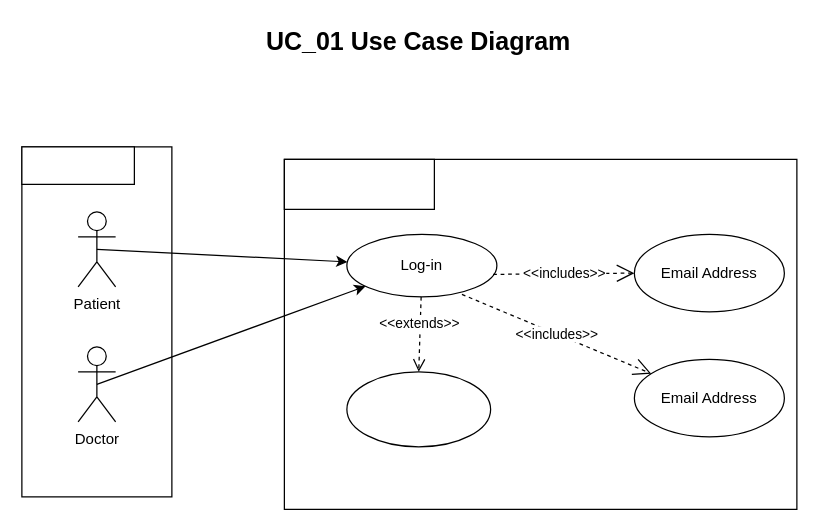
Image size: 819x531. Some labels were removed from this diagram. The box of each missing label's shape, as (x1, y1, x2, y2) in pixels:
Mister Ed: (283, 158, 434, 209)
Primary Actors: (21, 146, 134, 184)
User's Database: (346, 371, 491, 447)
